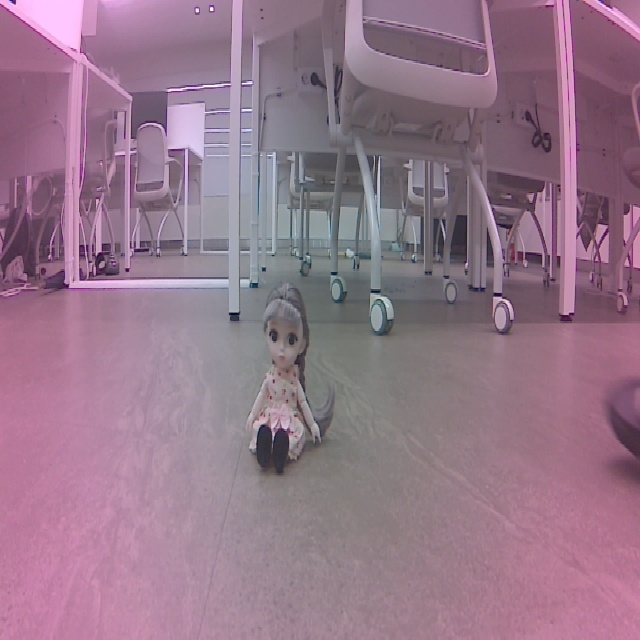장애물: (243, 278, 340, 481)
